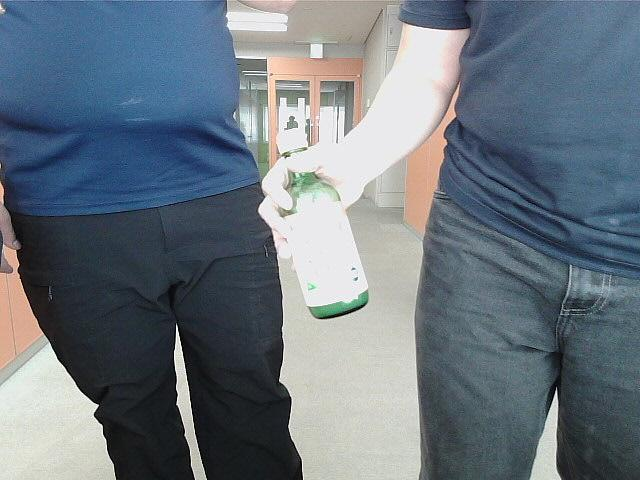Lemon_sapporo: (273, 124, 371, 332)
